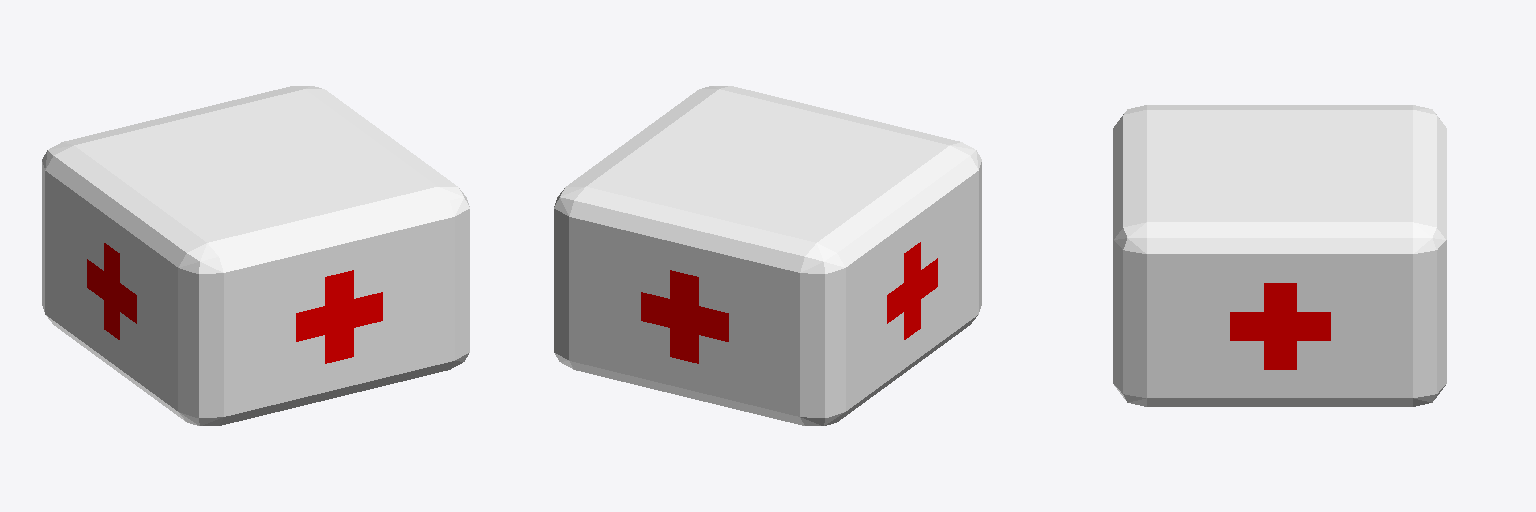
The picture shows the model from 3 angles: view 1: azimuth 30°, elevation 25°; view 2: azimuth 150°, elevation 25°; view 3: azimuth 270°, elevation 25°; orthographic projection.
Visible parts, largest first — view 1: Cube; view 2: Cube; view 3: Cube.
Part boxes in pixels (bbox=[...]): Cube: bbox=[42, 86, 469, 425]; Cube: bbox=[554, 86, 981, 425]; Cube: bbox=[1113, 105, 1446, 406].
Size of the model in its own units: 0.3117 by 0.1859 by 0.3117.
1 materials, 1 textured.